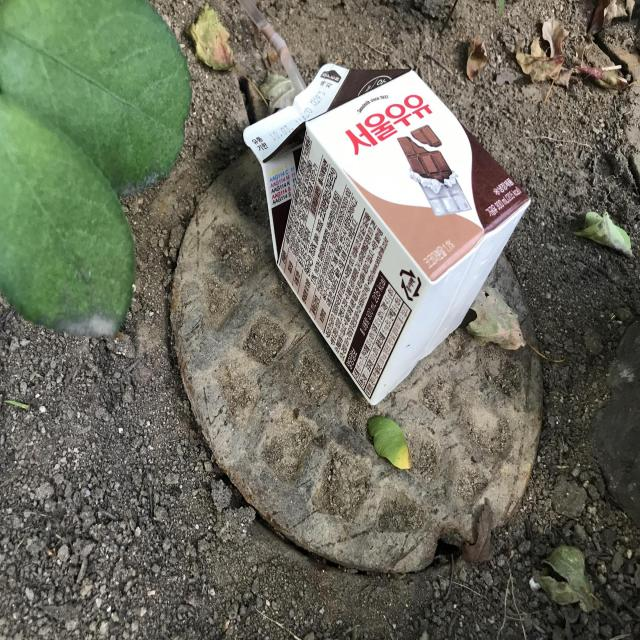paperpack: (244, 63, 530, 402)
